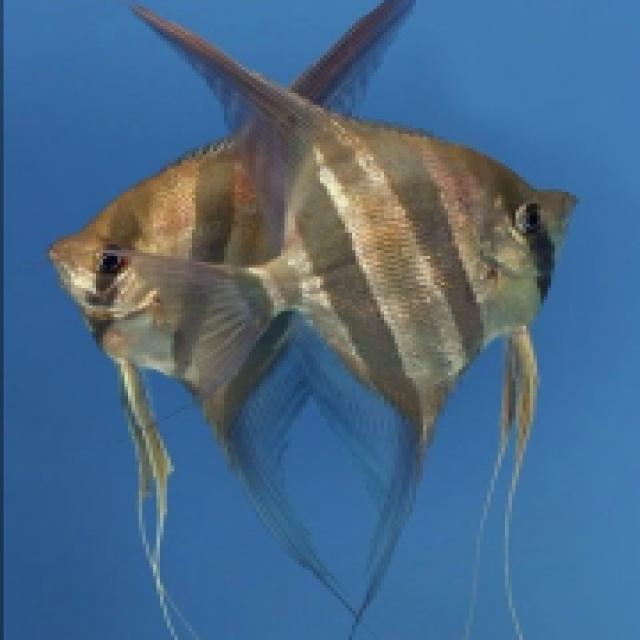AngelFish: (135, 7, 574, 490), (55, 0, 368, 623)
